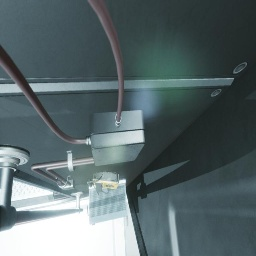EmergencyPhone ,: (87, 172, 119, 196)
